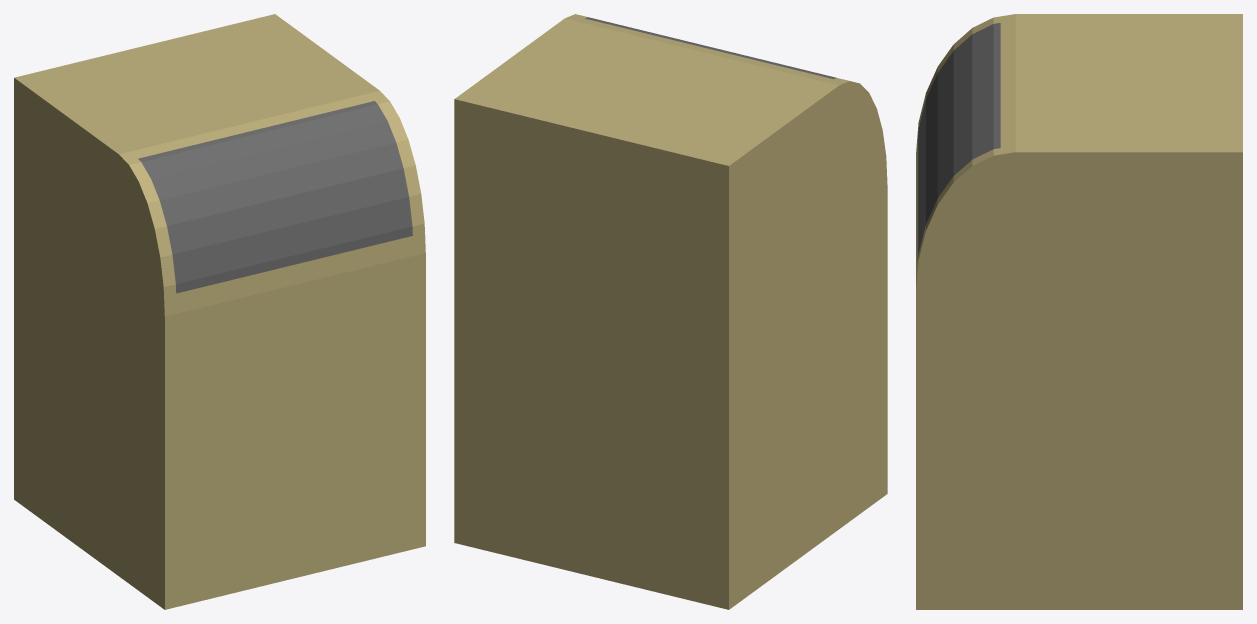
File: penguin.fbx
The picture shows the model from 3 angles, left to right: view 1: azimuth 30°, elevation 25°; view 2: azimuth 150°, elevation 25°; view 3: azimuth 270°, elevation 25°; orthographic projection. The views are drawn at different scales.
Parts seen in each view (by area): view 1: Penguin; view 2: Penguin; view 3: Penguin.
Part boxes in pixels (x1,y1,x2,y2): Penguin: (14, 14, 425, 609); Penguin: (454, 14, 887, 609); Penguin: (916, 14, 1242, 609).
Bounding box in the file's own units: 200 × 309 × 200.
